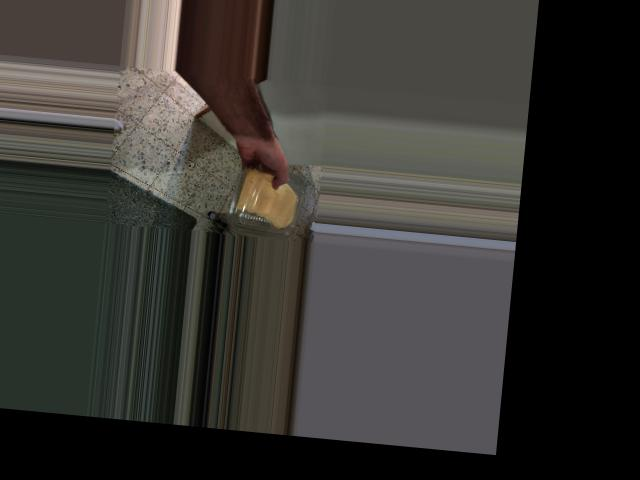cheese: (228, 164, 303, 234)
